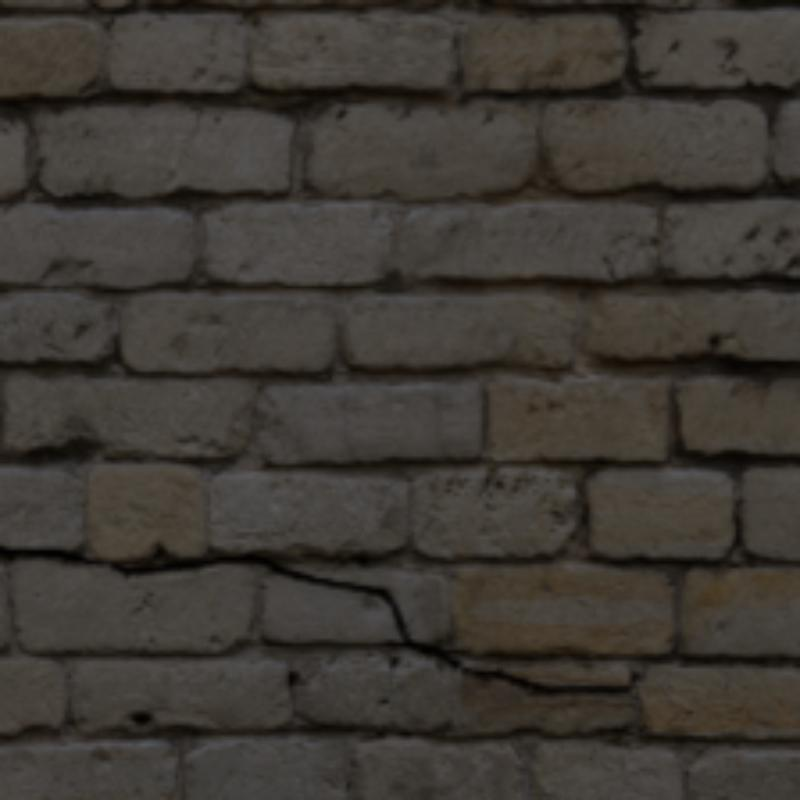pothole: (0, 546, 629, 693)
